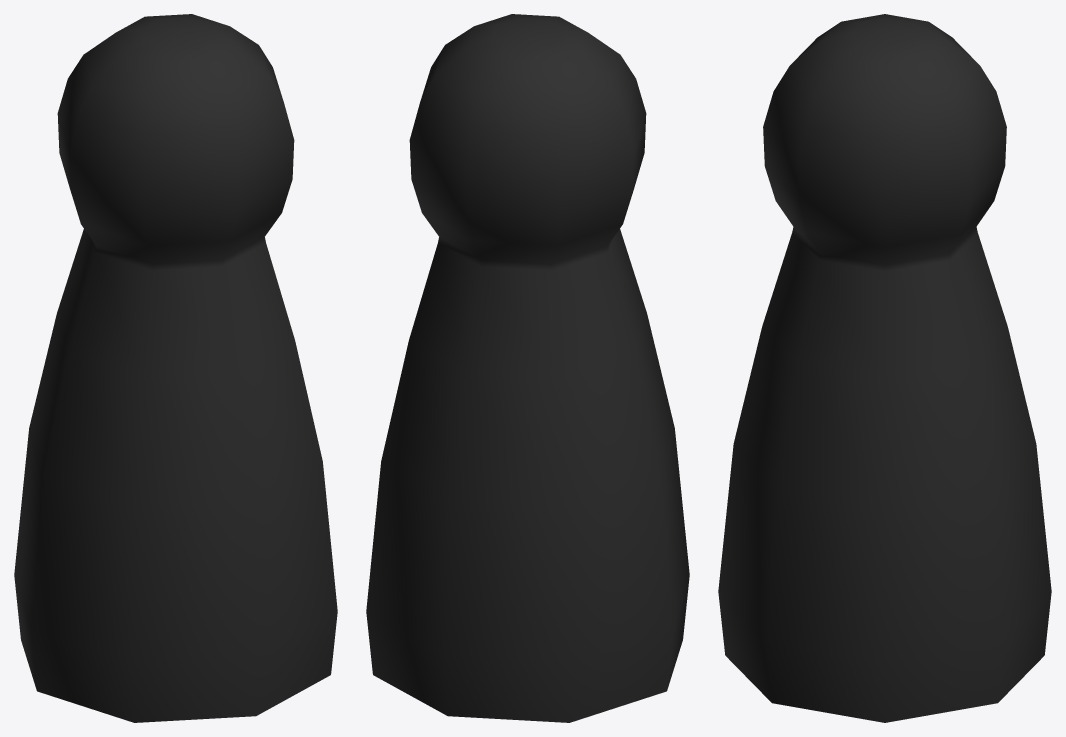
Rendered from Player-Piece-Stub.fbx.
3 renders of one model, left to right at view 1: azimuth 30°, elevation 25°; view 2: azimuth 150°, elevation 25°; view 3: azimuth 270°, elevation 25°, orthographic.
Visible parts, largest first — view 1: Player-Piece-Stub; view 2: Player-Piece-Stub; view 3: Player-Piece-Stub.
Boxes of the visible parts, bbox=[...] form: Player-Piece-Stub: bbox=[14, 14, 337, 722]; Player-Piece-Stub: bbox=[366, 14, 689, 722]; Player-Piece-Stub: bbox=[718, 14, 1051, 722].
Bounding box in the file's own units: 130 × 268 × 130.
Materials: 1 (1 with a texture image).
